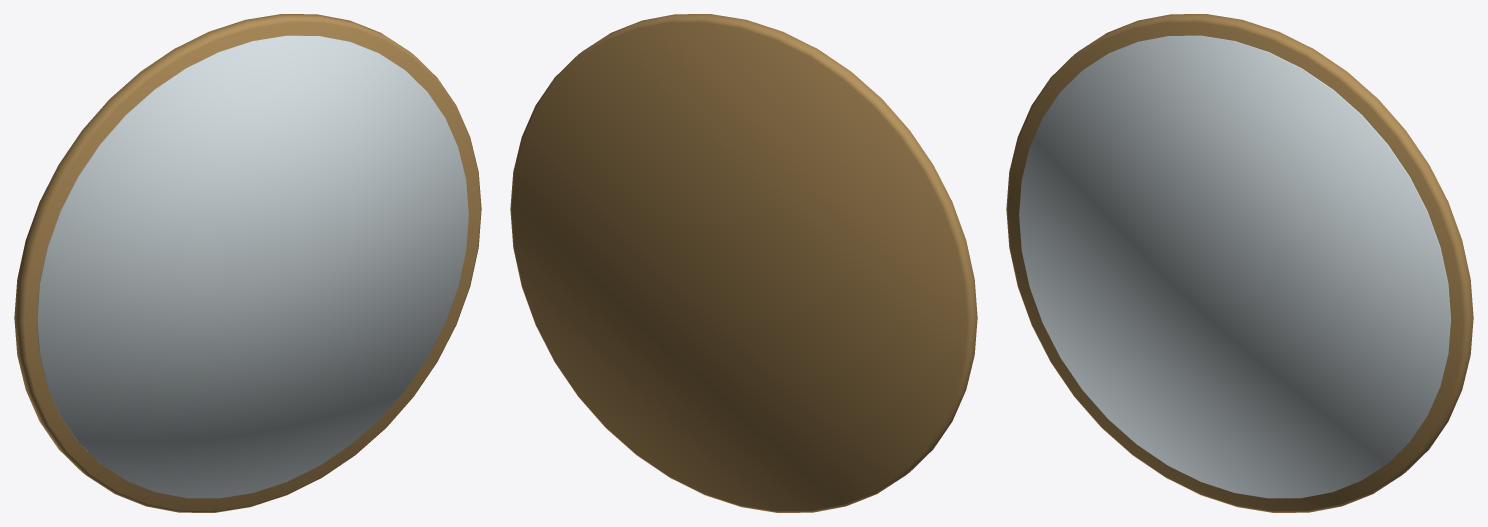
The model's file is i_mirror_0.glb.
3 views of the same model, side by side, from view 1: azimuth 30°, elevation 25°; view 2: azimuth 150°, elevation 25°; view 3: azimuth 330°, elevation 25° (orthographic).
Visible parts, largest first — view 1: o.001, o; view 2: o; view 3: o.001, o.
Boxes of the visible parts, left/top/right/bottom form: o.001: left=37, top=35, right=468, bottom=498; o: left=14, top=14, right=481, bottom=512; o: left=510, top=14, right=977, bottom=512; o.001: left=1019, top=35, right=1450, bottom=498; o: left=1006, top=14, right=1473, bottom=512.
Bounding box in the file's own units: 0.6 × 0.6 × 0.022.
